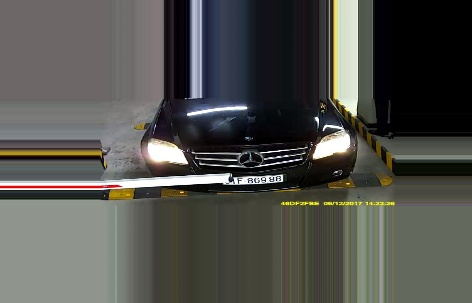plate: (225, 171, 284, 186)
